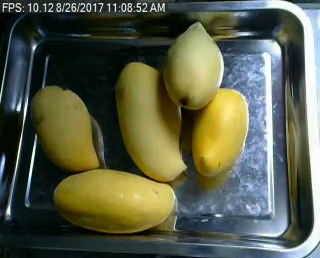Mango: (116, 57, 191, 182), (52, 168, 177, 235), (28, 83, 103, 171), (159, 22, 224, 111), (190, 90, 252, 178)
